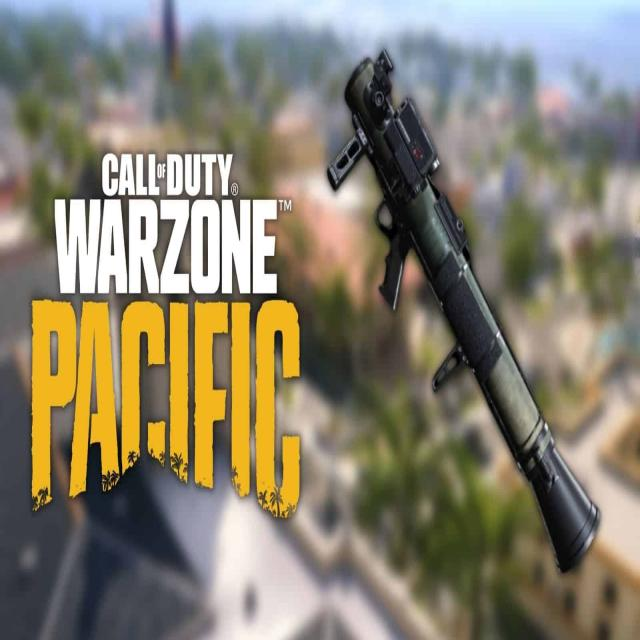bazooka: (301, 15, 623, 617)
